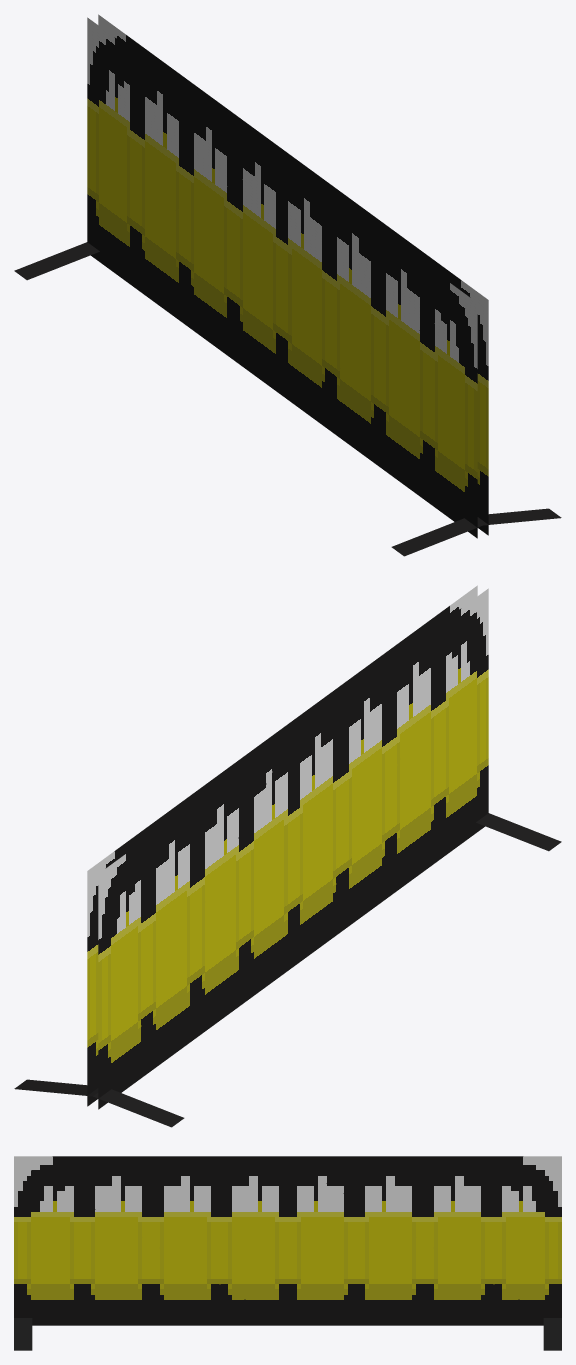
The model's file is railing-barrier-yellow.glb.
3 renders of one model, top to bottom at view 1: azimuth 30°, elevation 25°; view 2: azimuth 150°, elevation 25°; view 3: azimuth 270°, elevation 25°, orthographic. The views are drawn at different scales.
Parts seen in each view (by area): view 1: railing-barrier-nocol; view 2: railing-barrier-nocol; view 3: railing-barrier-nocol.
Part boxes in pixels (x1,y1,x2,y2): railing-barrier-nocol: [14, 14, 561, 556]; railing-barrier-nocol: [14, 585, 561, 1127]; railing-barrier-nocol: [14, 1156, 561, 1350].
Bounding box in the file's own units: 1.4 × 2 × 6.
1 material, 1 textured.
